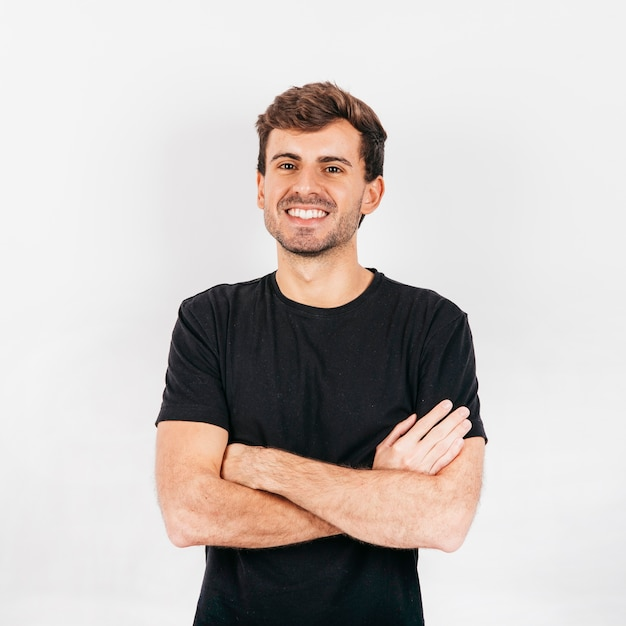young: (234, 69, 403, 283)
